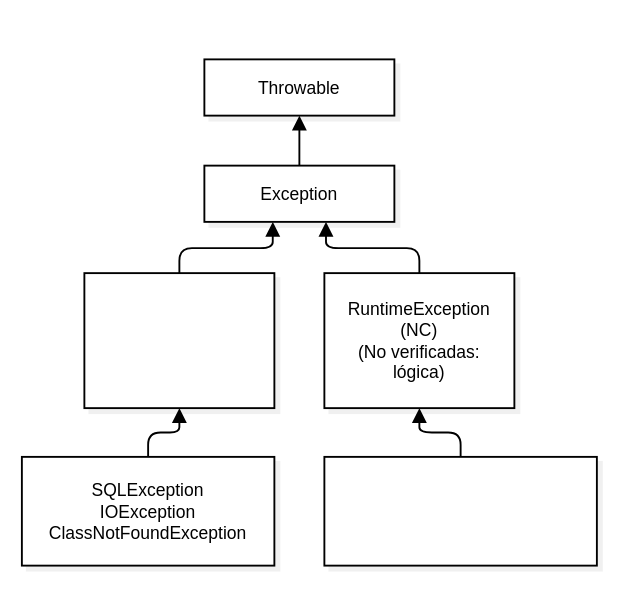
Some shapes in this 625 by 593 pixel diagram are drawn without their labels. The shapes that lost their labels are listed below. From the top down, each one's centre as x and y in pixels, then its label:
the point at 181,343: Checked Exceptions (Verificadas: E/S, BD)
the point at 462,513: IllegalArgumentException IllegalStateException NumberFormatException
